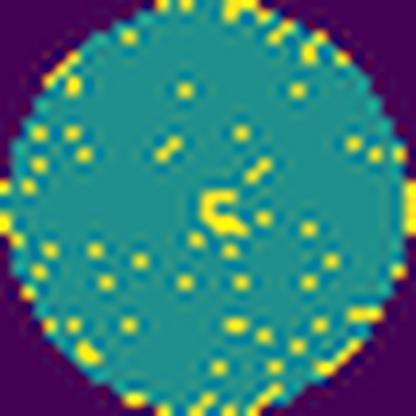Center: (197, 186, 255, 242)
